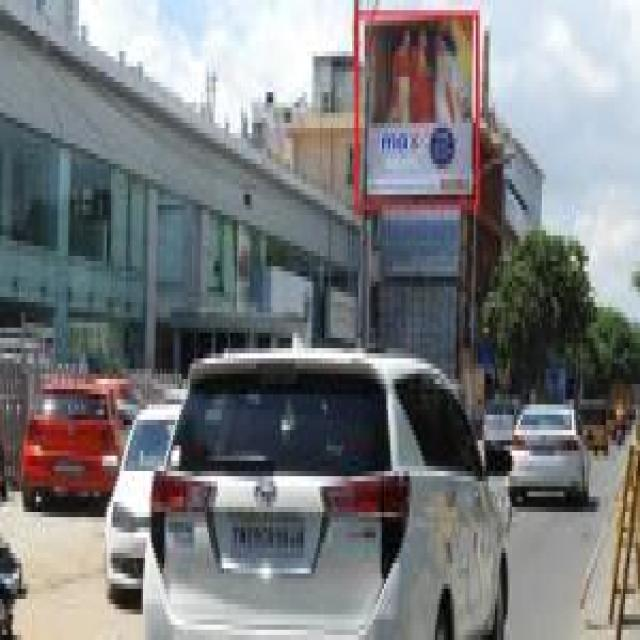Werbetafel frei: (364, 22, 472, 196)
